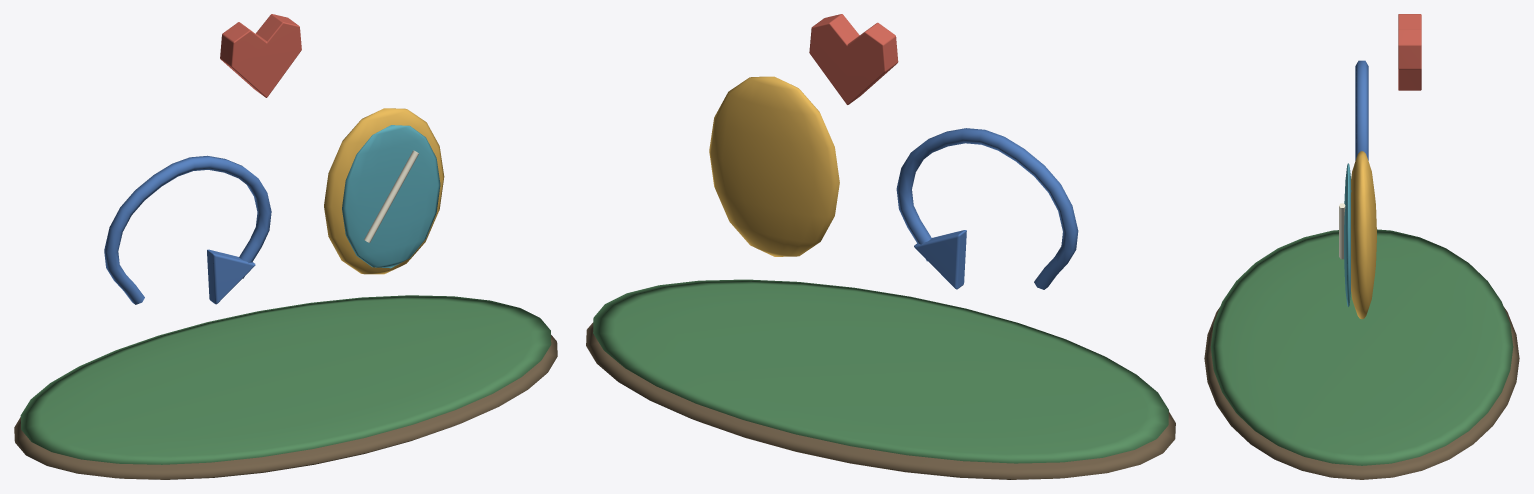
Rendered from complete-third-mutual-reflections.glb.
3 renders of one model, left to right at view 1: azimuth 30°, elevation 25°; view 2: azimuth 150°, elevation 25°; view 3: azimuth 270°, elevation 25°, orthographic. The views are drawn at different scales.
Visible parts, largest first — view 1: complete-third-mutual-reflections_surface_01, complete-third-mutual-reflections_surface_04, complete-third-mutual-reflections_surface_00, complete-third-mutual-reflections_surface_02, complete-third-mutual-reflections_surface_03, complete-third-mutual-reflections_surface_06, complete-third-mutual-reflections_surface_05; view 2: complete-third-mutual-reflections_surface_01, complete-third-mutual-reflections_surface_03, complete-third-mutual-reflections_surface_00, complete-third-mutual-reflections_surface_02, complete-third-mutual-reflections_surface_06; view 3: complete-third-mutual-reflections_surface_01, complete-third-mutual-reflections_surface_00, complete-third-mutual-reflections_surface_03, complete-third-mutual-reflections_surface_06, complete-third-mutual-reflections_surface_02, complete-third-mutual-reflections_surface_04.
Boxes of the visible parts, x1=… form: complete-third-mutual-reflections_surface_01: x1=20, y1=295, x2=551, y2=464; complete-third-mutual-reflections_surface_04: x1=342, y1=125, x2=440, y2=268; complete-third-mutual-reflections_surface_00: x1=14, y1=335, x2=557, y2=479; complete-third-mutual-reflections_surface_02: x1=104, y1=155, x2=271, y2=304; complete-third-mutual-reflections_surface_03: x1=324, y1=108, x2=444, y2=274; complete-third-mutual-reflections_surface_06: x1=220, y1=14, x2=301, y2=97; complete-third-mutual-reflections_surface_05: x1=364, y1=150, x2=418, y2=242; complete-third-mutual-reflections_surface_01: x1=593, y1=279, x2=1168, y2=463; complete-third-mutual-reflections_surface_03: x1=709, y1=76, x2=839, y2=256; complete-third-mutual-reflections_surface_00: x1=586, y1=322, x2=1175, y2=479; complete-third-mutual-reflections_surface_02: x1=896, y1=128, x2=1078, y2=289; complete-third-mutual-reflections_surface_06: x1=809, y1=14, x2=898, y2=104; complete-third-mutual-reflections_surface_01: x1=1210, y1=229, x2=1513, y2=465; complete-third-mutual-reflections_surface_00: x1=1204, y1=307, x2=1519, y2=479; complete-third-mutual-reflections_surface_03: x1=1351, y1=151, x2=1376, y2=319; complete-third-mutual-reflections_surface_06: x1=1398, y1=14, x2=1421, y2=90; complete-third-mutual-reflections_surface_02: x1=1355, y1=60, x2=1368, y2=160; complete-third-mutual-reflections_surface_04: x1=1344, y1=163, x2=1351, y2=306.
Size of the model in its own units: 4.56 by 3.07 by 2.5.
